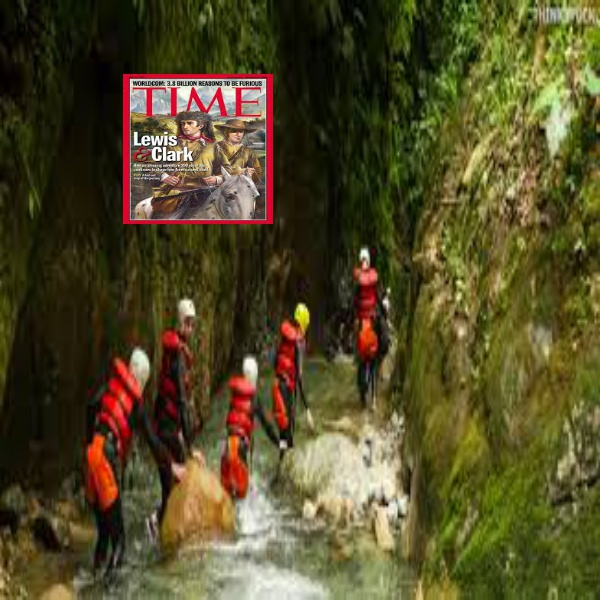time_cover: (125, 71, 276, 229)
